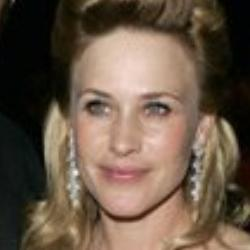face: (23, 1, 224, 233)
